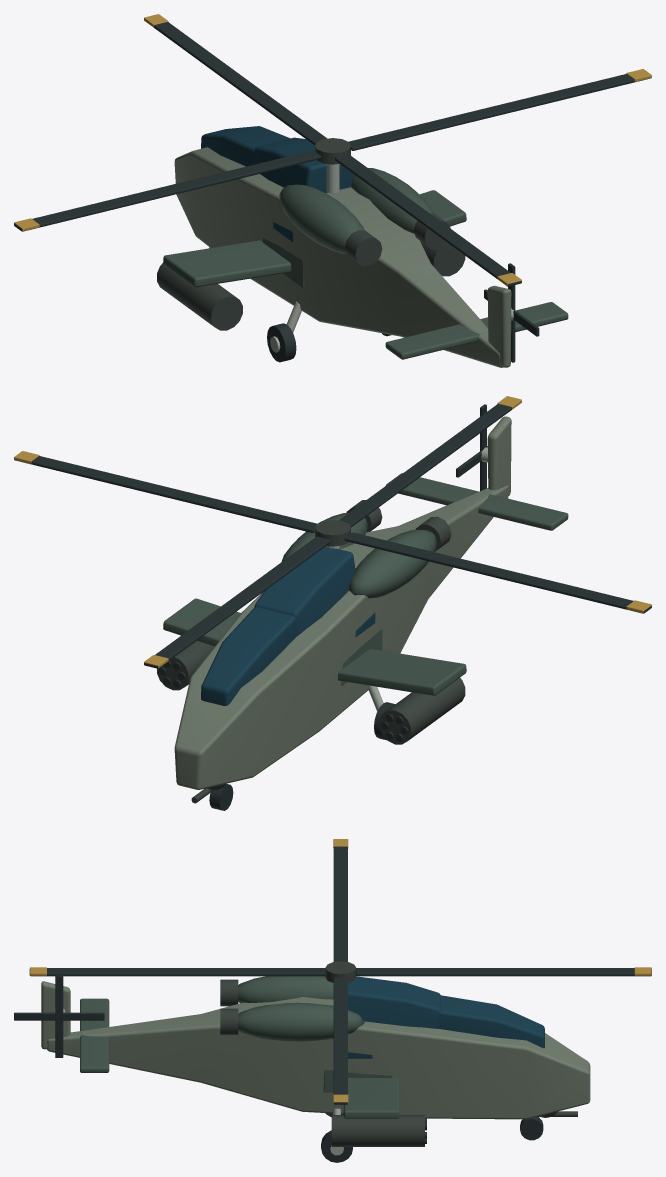
Rendered from cas_attack_helicopter.glb.
The picture shows the model from 3 angles, top to bottom: view 1: azimuth 30°, elevation 25°; view 2: azimuth 150°, elevation 25°; view 3: azimuth 270°, elevation 25°; orthographic projection. The views are drawn at different scales.
Visible parts, largest first — view 1: Hull, MainRotorVisual, TailRotorVisual; view 2: Hull, MainRotorVisual, TailRotorVisual; view 3: Hull, MainRotorVisual, TailRotorVisual.
Boxes of the visible parts, x1,y1,x2,y2 form: Hull: [157, 126, 568, 367]; MainRotorVisual: [14, 14, 651, 286]; TailRotorVisual: [484, 263, 539, 362]; Hull: [157, 416, 568, 810]; MainRotorVisual: [14, 396, 651, 668]; TailRotorVisual: [456, 404, 487, 490]; Hull: [41, 976, 590, 1162]; MainRotorVisual: [29, 839, 651, 1104]; TailRotorVisual: [14, 975, 104, 1057].
Size of the model in its own units: 11.67 by 3.53 by 11.97.
